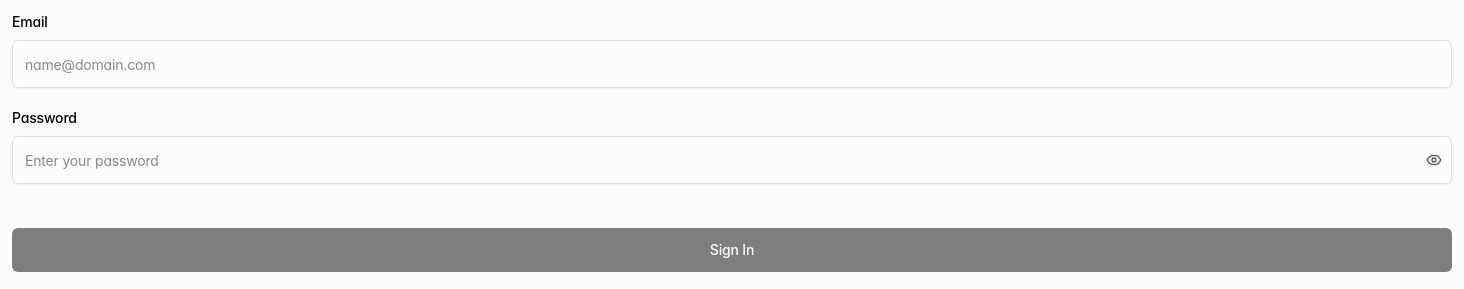
LoginForm › should enable submit button when form is valid
The image size is (1464, 289).
Type "test@example.com" into the field labelled "Email" at (732, 64), box [12, 40, 1452, 88]
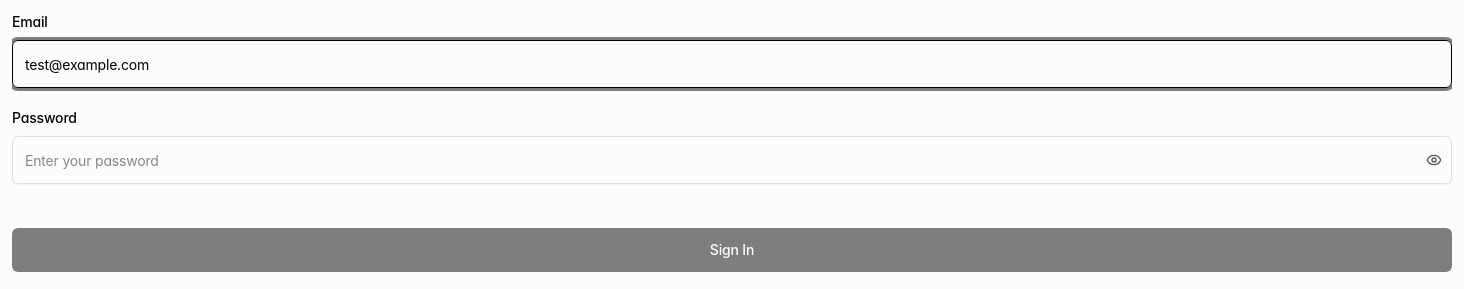
Type "password123" into the password field with placeholder "Enter your password" at (732, 160), box [12, 136, 1452, 184]
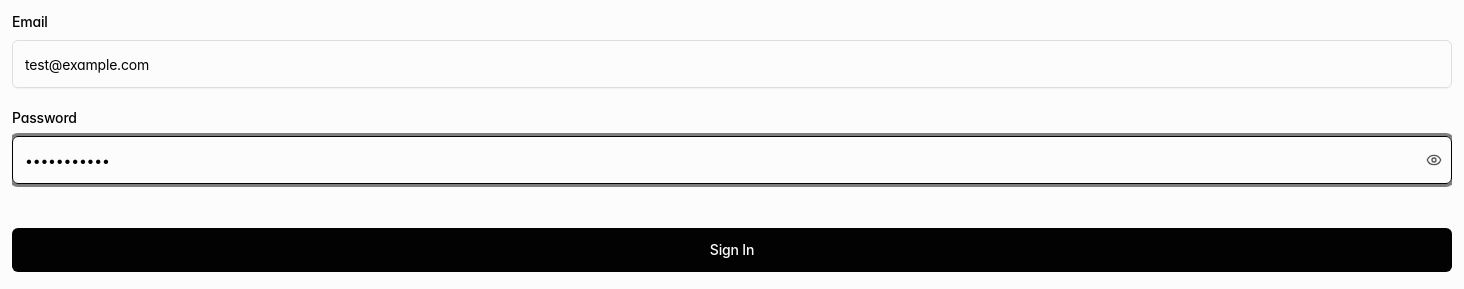
Now the button "Sign In" is enabled, box [12, 228, 1452, 272]
